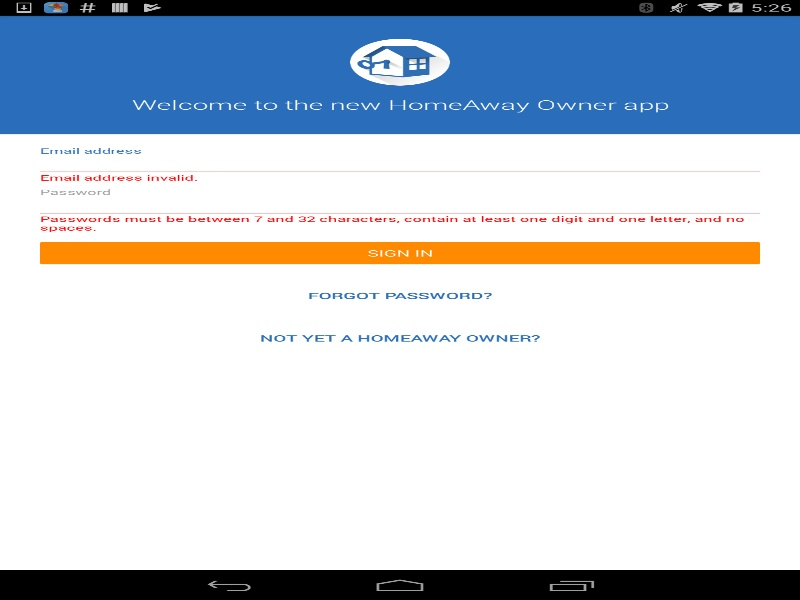Button: (40, 238, 760, 268), (40, 280, 760, 310), (40, 323, 760, 353)
Input: (40, 153, 760, 172), (40, 195, 760, 213)
